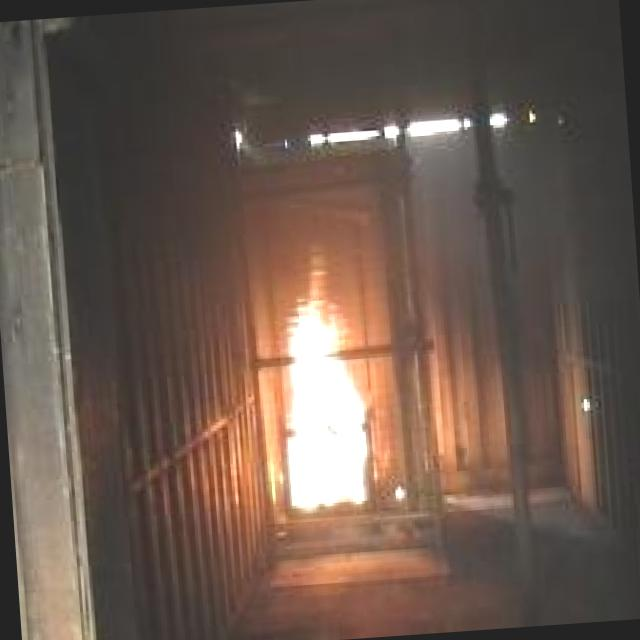fire: (255, 264, 396, 526)
